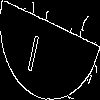I: (25, 25, 44, 73)
